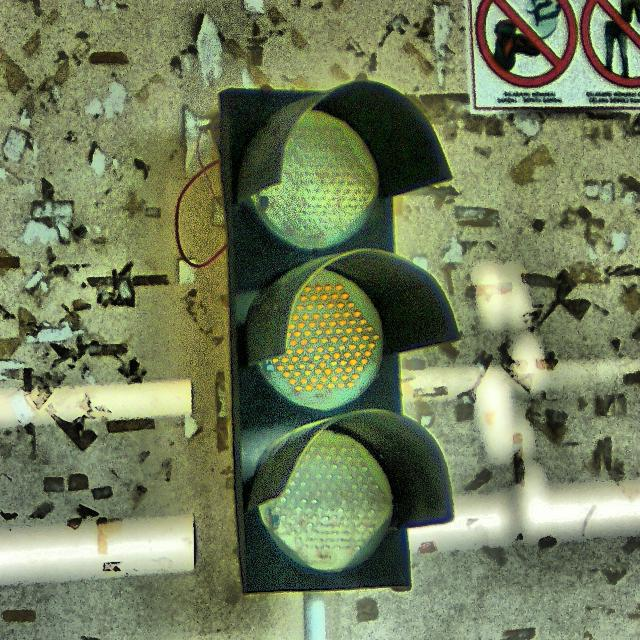yellow: (220, 84, 442, 591)
